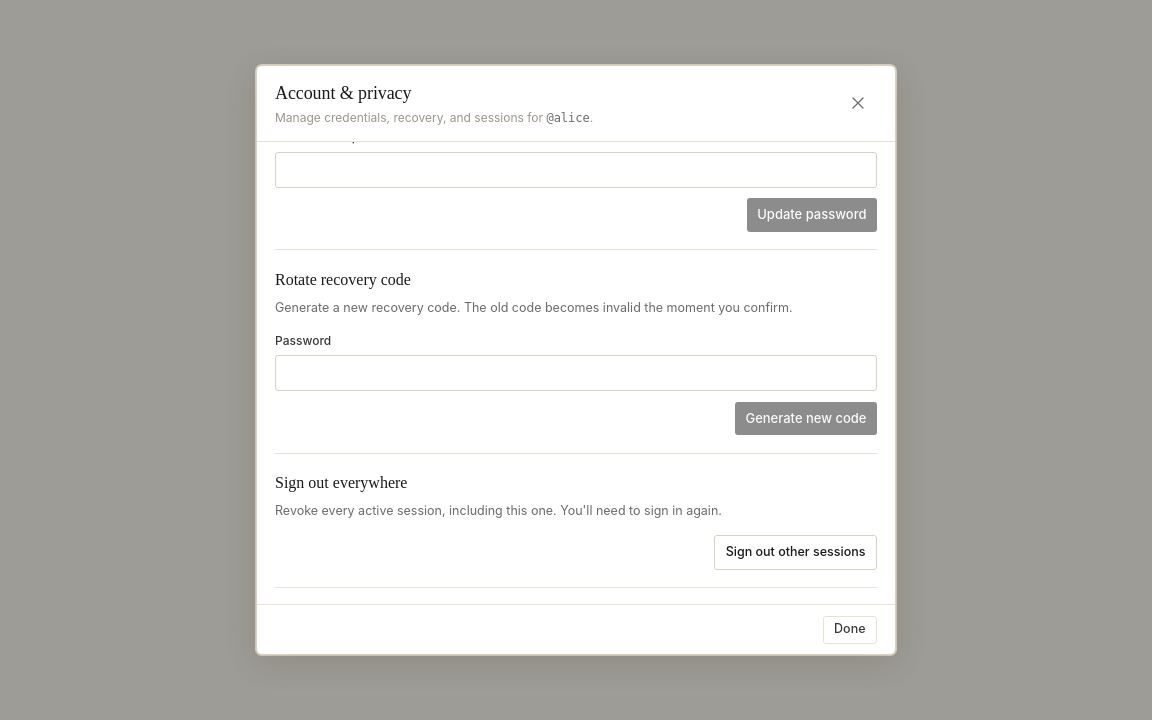
Scenario: <AccountPrivacyModal> › [F61] recovery-code takeover › issuing a code swaps the modal title, subtitle, and hides the section list
(page scrolled)
Type "pw" into the password field labelled "Password" at (576, 373), box [275,355,877,391]
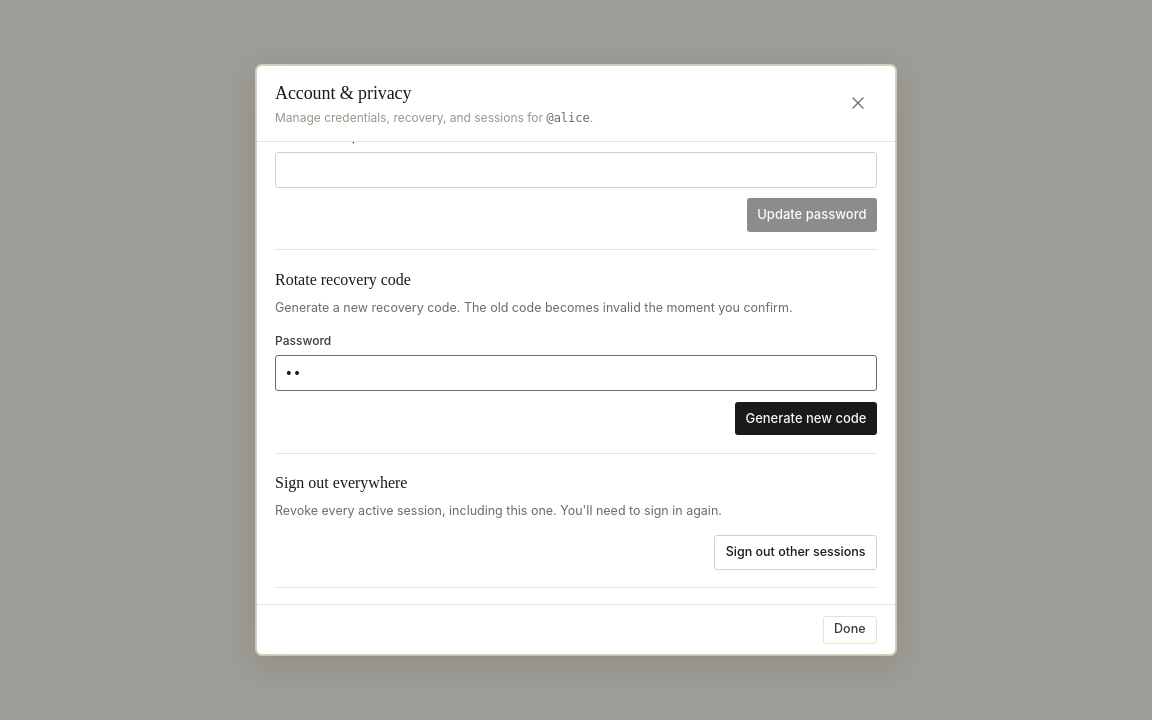
Click the button "Generate new code" at (806, 418), box [735,402,877,435]
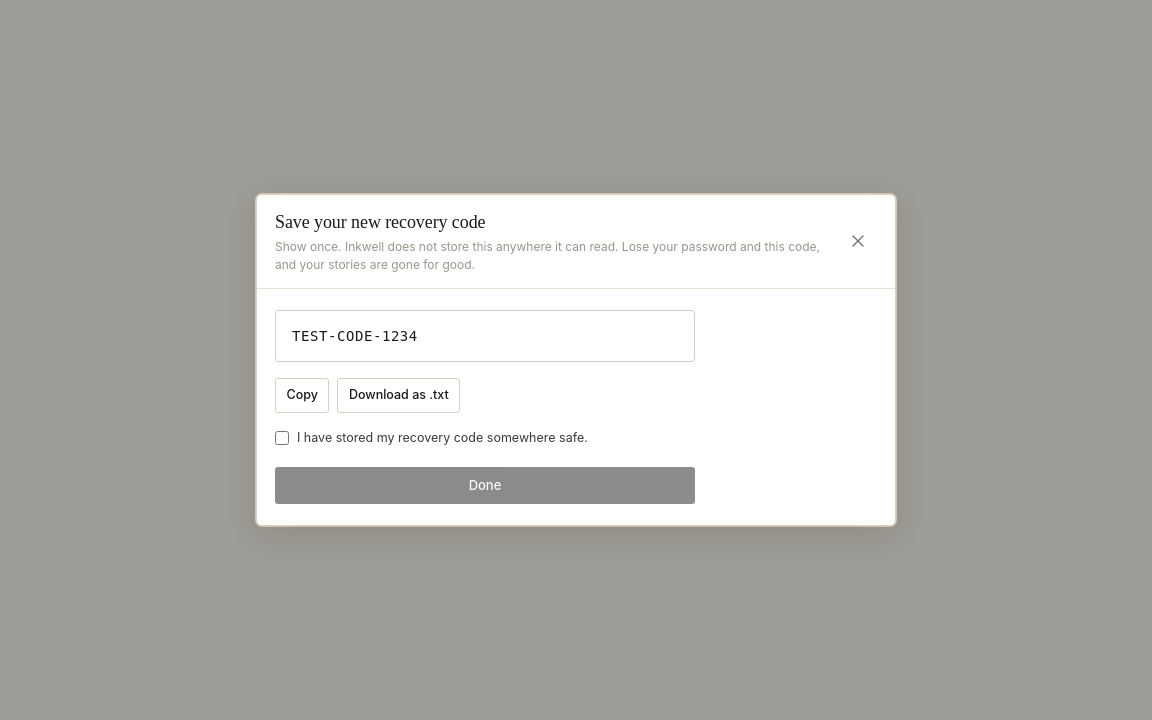
Expected: the heading "Save your new recovery code" is shown, [275,212,486,232]
Expected: the password field labelled "change password" is gone
Expected: the element with test id "recovery-code-box" reads "TEST-CODE-1234", [292,328,418,344]
